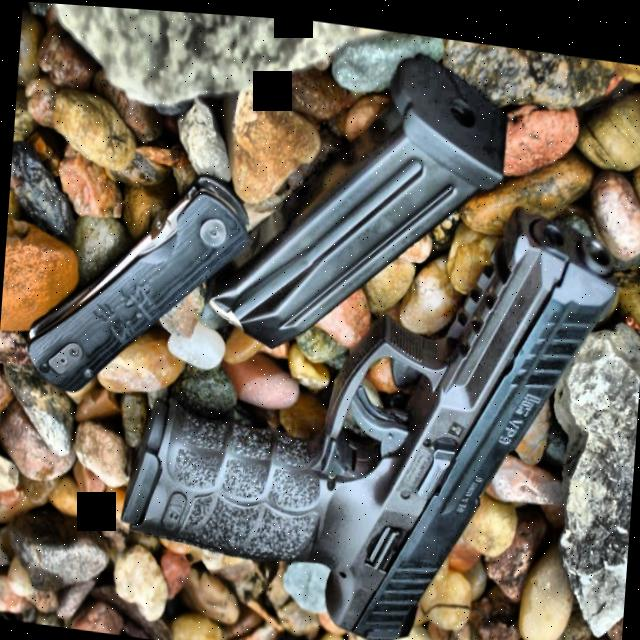HKVP9: (113, 151, 624, 640)
